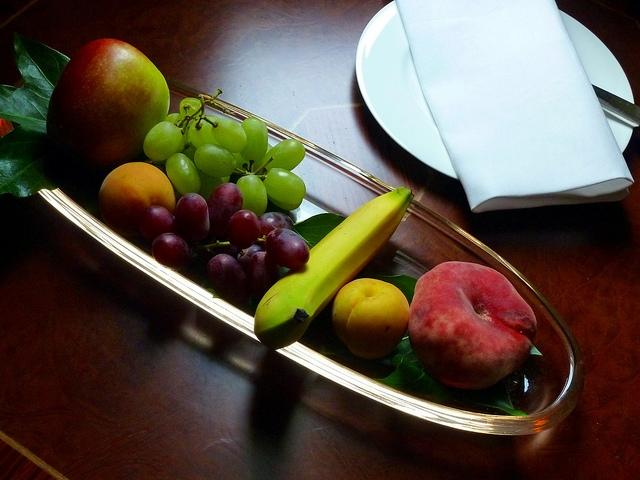apple: (46, 38, 170, 176)
banana: (254, 184, 416, 351)
grape: (207, 254, 251, 304), (207, 183, 243, 240), (265, 228, 310, 270), (246, 252, 290, 294), (175, 192, 210, 242), (136, 206, 176, 246), (152, 233, 194, 270), (263, 168, 306, 204), (262, 138, 306, 172), (144, 122, 182, 161), (194, 143, 236, 178), (166, 153, 200, 195), (192, 160, 224, 204), (236, 175, 268, 217), (226, 210, 260, 249), (211, 118, 247, 154), (240, 117, 268, 163), (258, 211, 294, 238), (189, 117, 220, 148), (180, 97, 202, 122), (165, 113, 191, 132), (232, 153, 250, 174)
peach: (408, 262, 542, 390)
